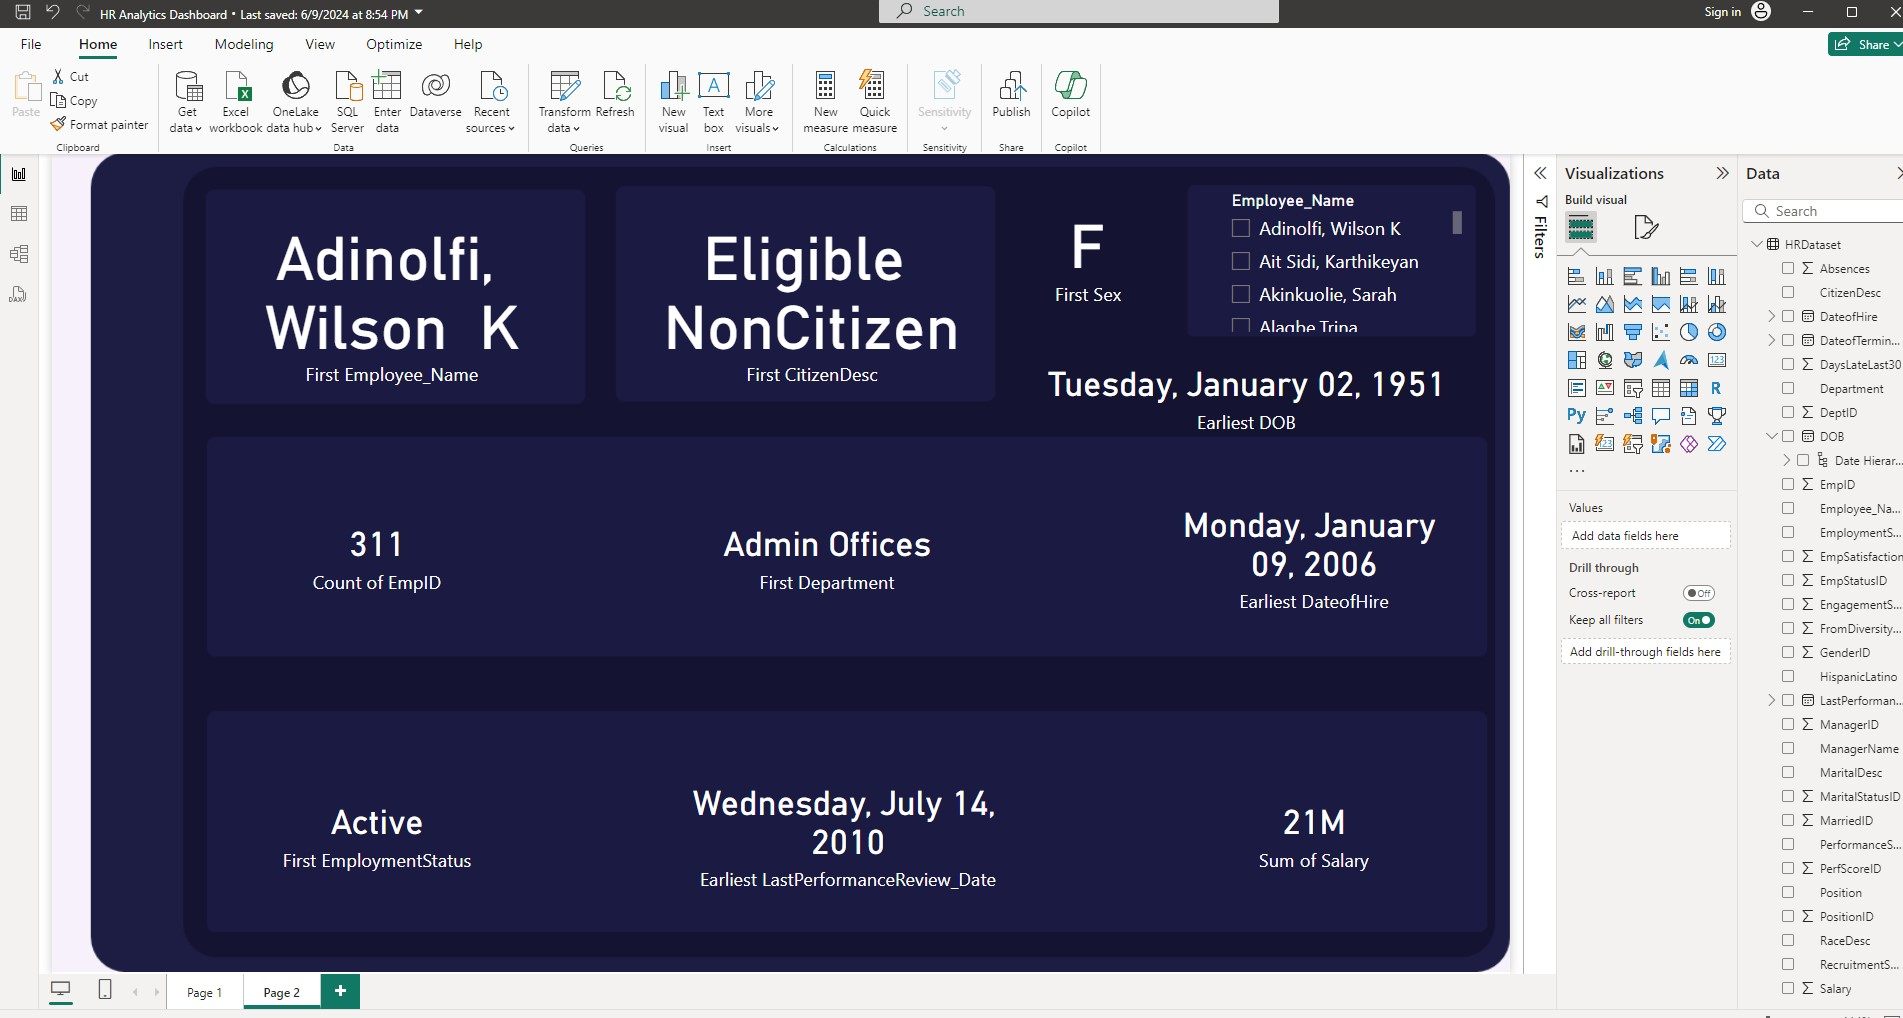

The page's visual inventory and layout, read from the dashboard file:
{"tool":"powerbi","page":{"name":"Page 2","canvas":[1280,720],"ordinal":1},"visuals":[{"type":"card","fields":{"Values":["Min(HRDataset.Employee_Name)"]},"box":[151,39.5,295,171.2],"z":0},{"type":"card","fields":{"Values":["Min(HRDataset.CitizenDesc)"]},"box":[519.8,39.5,295,171.2],"z":1000},{"type":"card","fields":{"Values":["Min(HRDataset.Sex)"]},"box":[790.2,15.8,238.8,137.9],"z":2000},{"type":"card","fields":{"Values":["Min(HRDataset.DOB)"]},"box":[834.1,173.9,429.4,73.8],"z":3000},{"type":"card","fields":{"Values":["CountNonNull(HRDataset.EmpID)"]},"box":[151,282.7,268.7,137],"z":4000},{"type":"card","fields":{"Values":["Min(HRDataset.Department)"]},"box":[546.1,282.7,268.7,137],"z":5000},{"type":"card","fields":{"Values":["Min(HRDataset.DateofHire)"]},"box":[973.8,282.7,268.7,137],"z":6000},{"type":"card","fields":{"Values":["Min(HRDataset.EmploymentStatus)"]},"box":[151,526.8,268.7,137],"z":7000},{"type":"card","fields":{"Values":["Min(HRDataset.LastPerformanceReview_Date)"]},"box":[546.1,526.8,305.6,137],"z":8000},{"type":"card","fields":{"Values":["Sum(HRDataset.Salary)"]},"box":[973.8,526.8,268.7,137],"z":9000},{"type":"slicer","fields":{"Values":["HRDataset.Employee_Name"]},"box":[1022.9,27.2,219.5,134.3],"z":10000},{"type":"actionButton","box":[50.9,39.5,100.1,40.4],"z":10001}]}

Visuals, with their boxes on the page's 1280x720 design canvas (x1, y1, x2, y2). These are canvas units, not pixel positions in the 1903x1018 screenshot, which may show the page scaled, cropped or inside an application window:
card - Min(HRDataset.Employee_Name): 151, 40, 446, 211
card - Min(HRDataset.CitizenDesc): 520, 40, 815, 211
card - Min(HRDataset.Sex): 790, 16, 1029, 154
card - Min(HRDataset.DOB): 834, 174, 1264, 248
card - CountNonNull(HRDataset.EmpID): 151, 283, 420, 420
card - Min(HRDataset.Department): 546, 283, 815, 420
card - Min(HRDataset.DateofHire): 974, 283, 1242, 420
card - Min(HRDataset.EmploymentStatus): 151, 527, 420, 664
card - Min(HRDataset.LastPerformanceReview_Date): 546, 527, 852, 664
card - Sum(HRDataset.Salary): 974, 527, 1242, 664
slicer - HRDataset.Employee_Name: 1023, 27, 1242, 162
actionButton: 51, 40, 151, 80
